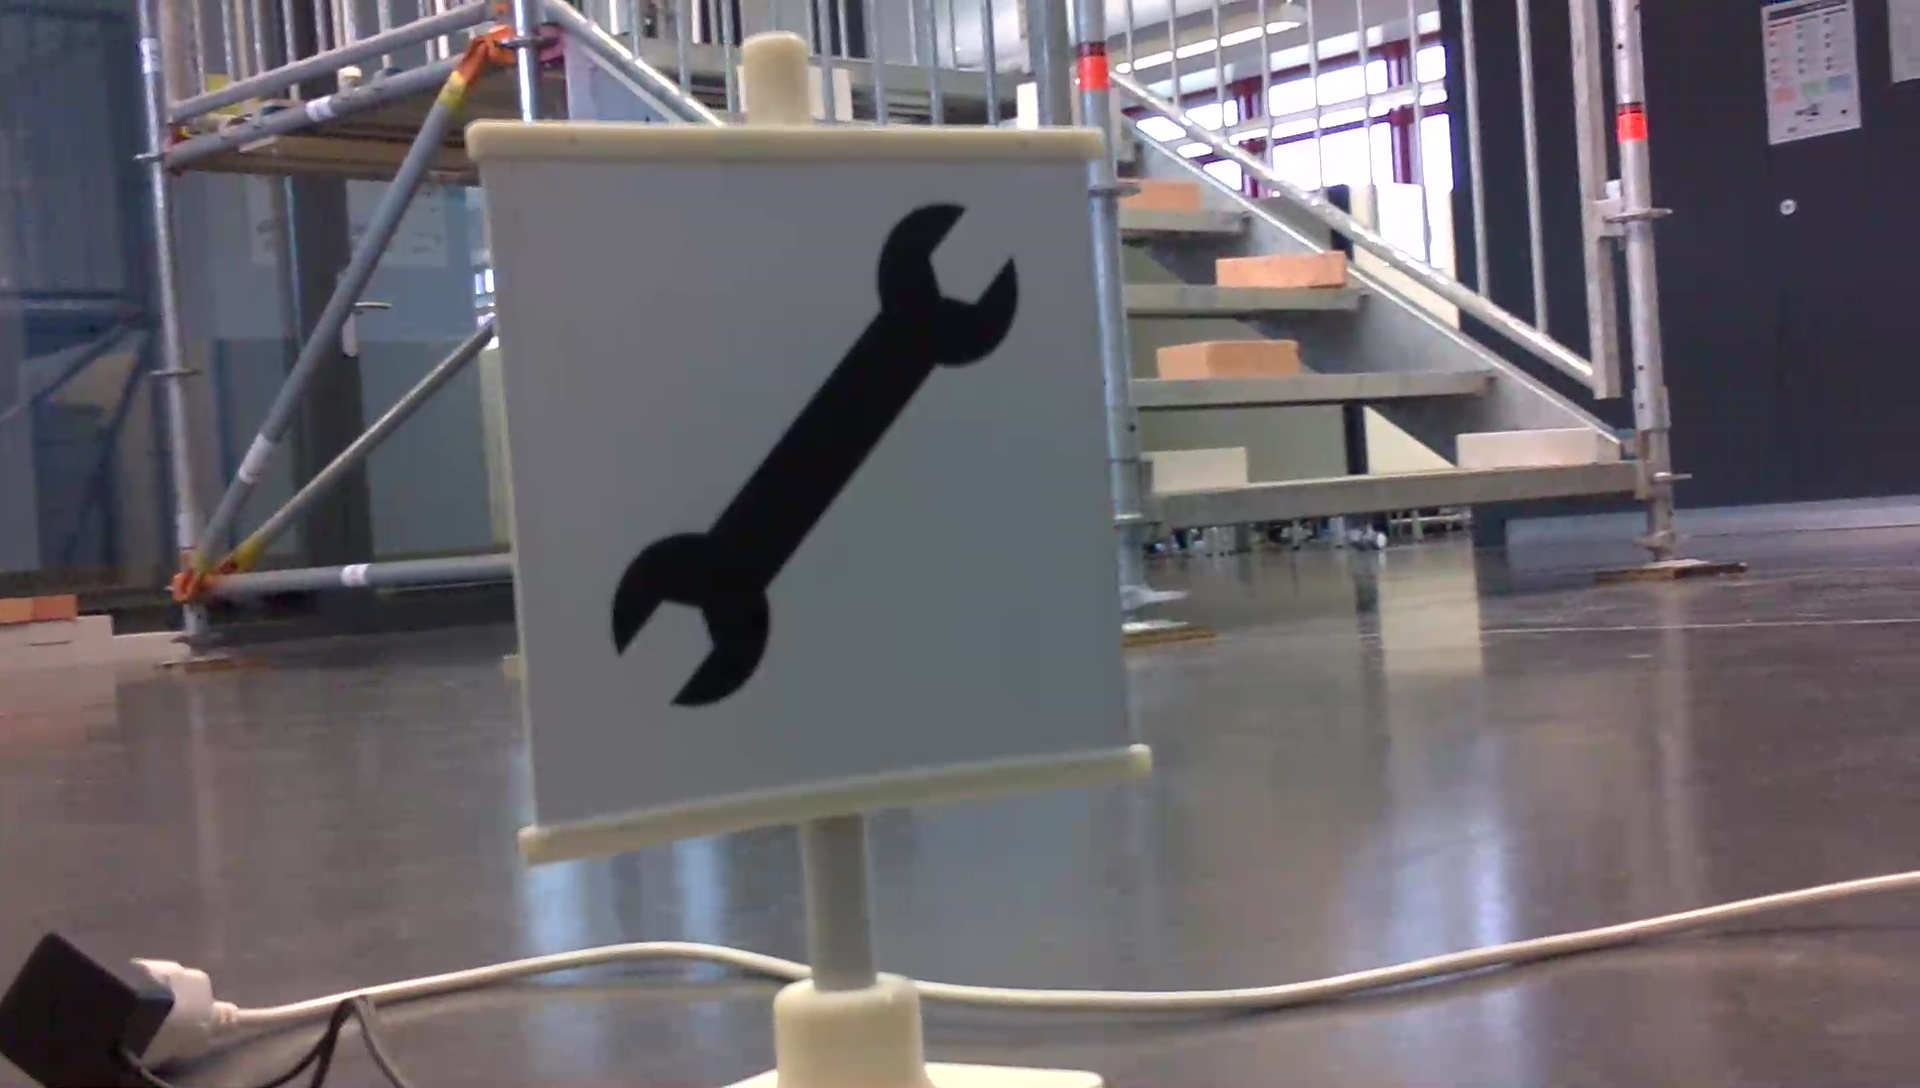brick: (1159, 340, 1295, 378), (1457, 430, 1593, 463), (1217, 253, 1345, 287), (1150, 447, 1247, 487), (1124, 178, 1200, 210)
edge: (1164, 466, 1643, 521), (1130, 371, 1505, 408), (1125, 282, 1373, 310), (1120, 210, 1255, 232)
wrench: (595, 193, 1025, 720)
